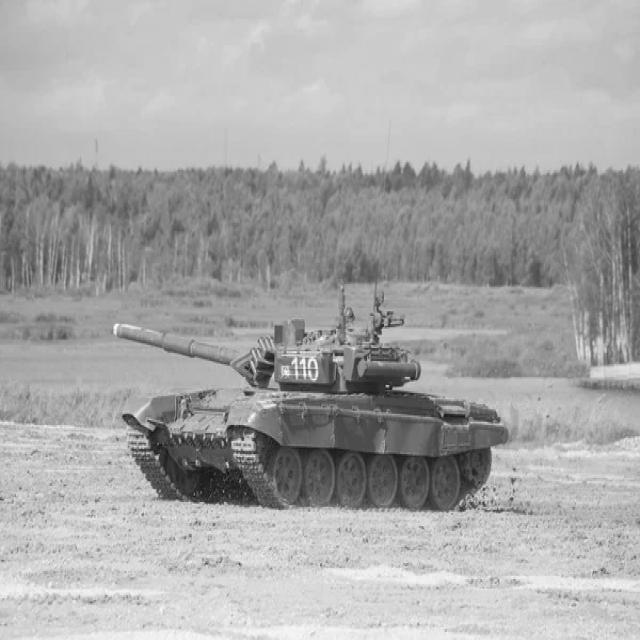Tank: (104, 297, 515, 515)
